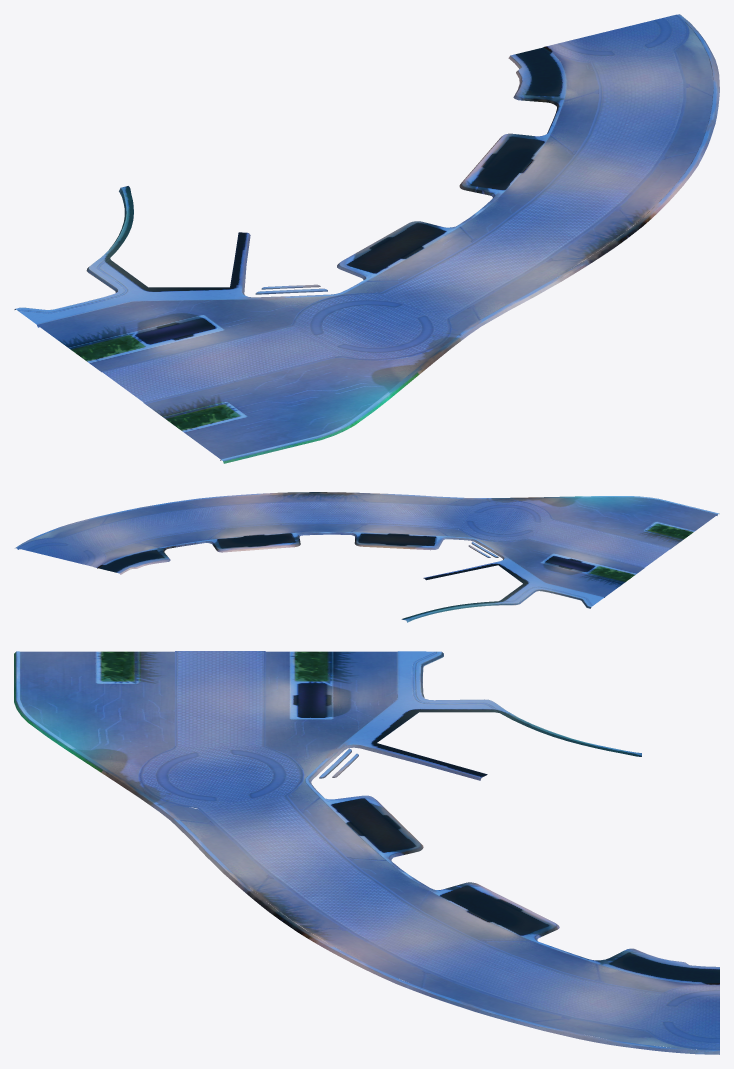
The model's file is pref_sm_beach_techsmall_WSJ_001_bk_main_road03_lv2.fbx.
3 views of the same model, one above another, from view 1: azimuth 30°, elevation 25°; view 2: azimuth 150°, elevation 25°; view 3: azimuth 270°, elevation 25° (orthographic). The views are drawn at different scales.
Parts seen in each view (by area): view 1: pref_sm_beach_techsmall_WSJ_001_bk_main_road03_lv2; view 2: pref_sm_beach_techsmall_WSJ_001_bk_main_road03_lv2; view 3: pref_sm_beach_techsmall_WSJ_001_bk_main_road03_lv2.
Part boxes in pixels (x1,y1,x2,y2): pref_sm_beach_techsmall_WSJ_001_bk_main_road03_lv2: [14, 14, 719, 463]; pref_sm_beach_techsmall_WSJ_001_bk_main_road03_lv2: [15, 492, 719, 622]; pref_sm_beach_techsmall_WSJ_001_bk_main_road03_lv2: [14, 651, 719, 1054].
Size of the model in its own units: 47.46 by 0.2197 by 35.31.
Materials: 1 (1 with a texture image).
